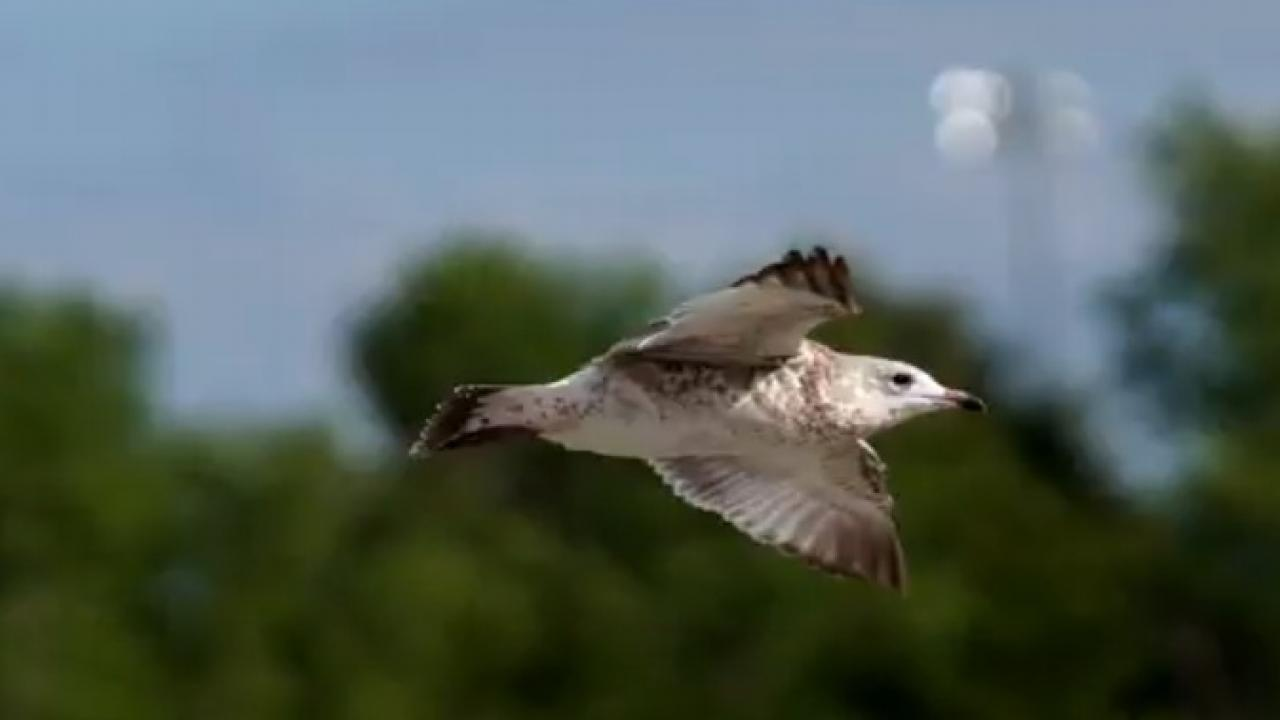Bird: (400, 239, 999, 605)
